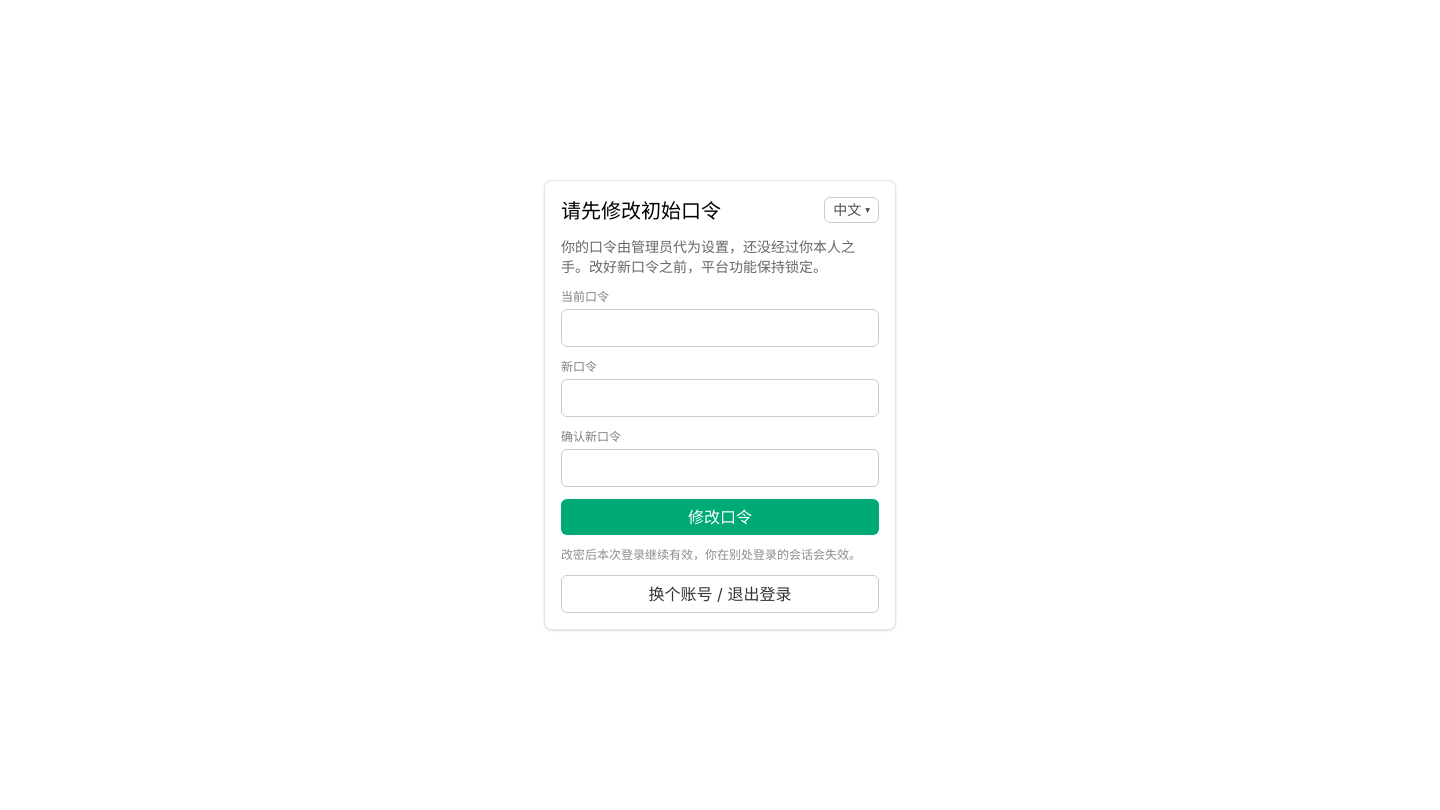
Test: #255 前端② 错误码 → 文案的渲染（每个码一条断言） › invalid_credentials（401 旧口令不对）⇒ 说「重输当前口令」，且**留在改密屏**、没回登录页
Type "whatever" into the password field with id "currentPassword" at (720, 328), box [561,309,879,347]
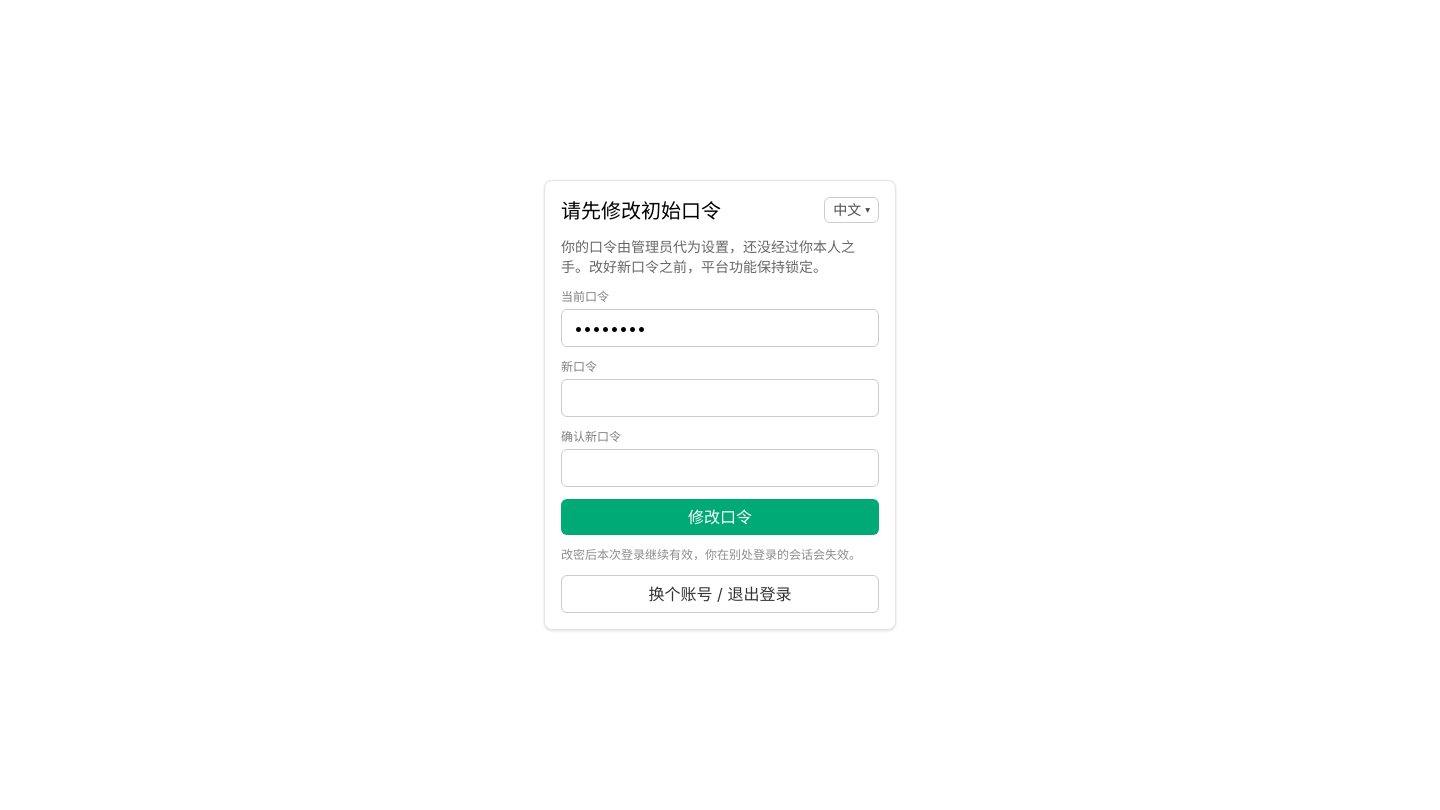
Type "mine-chosen" into the password field with id "newPassword" at (720, 398), box [561,379,879,417]
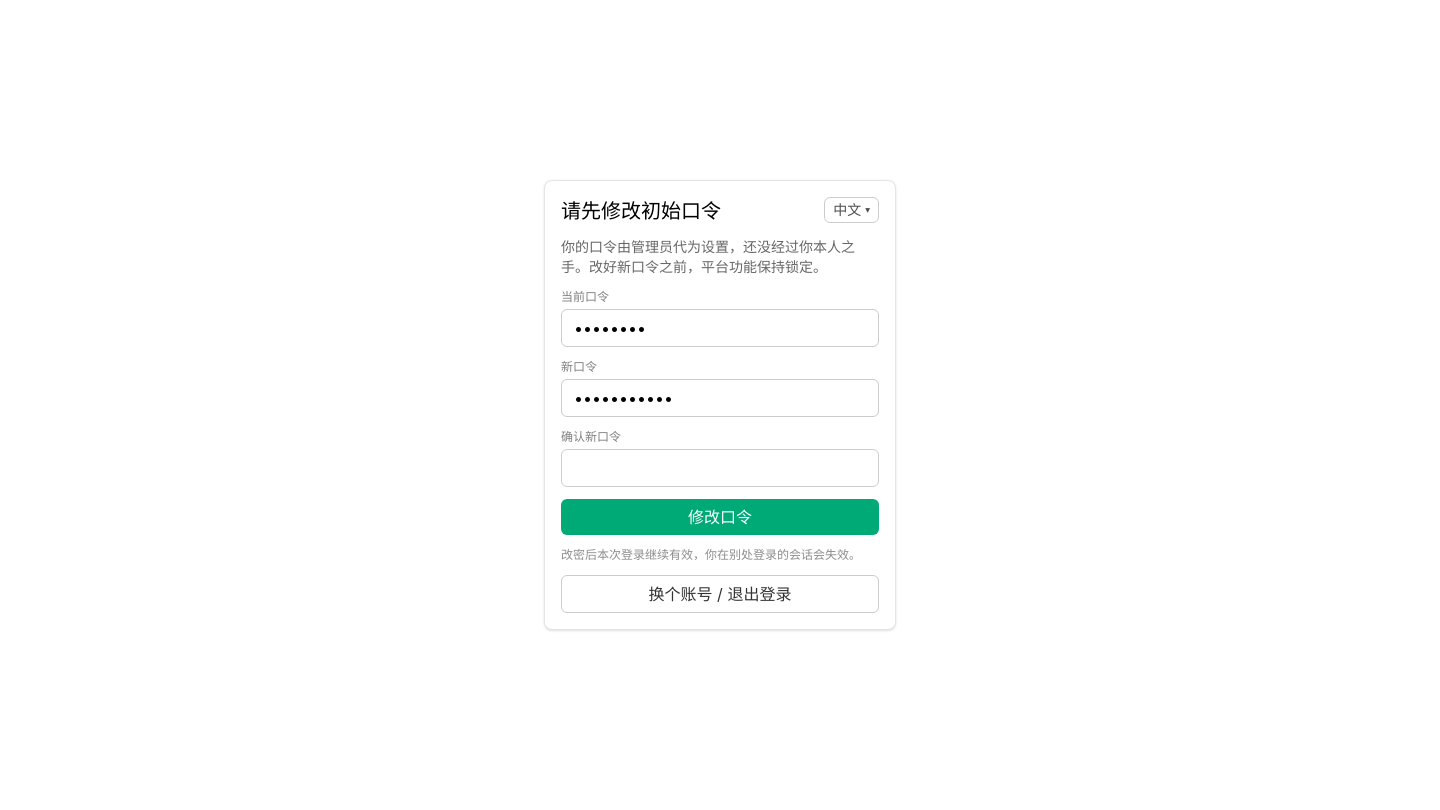
Type "mine-chosen" into the password field with id "confirmPassword" at (720, 468), box [561,449,879,487]
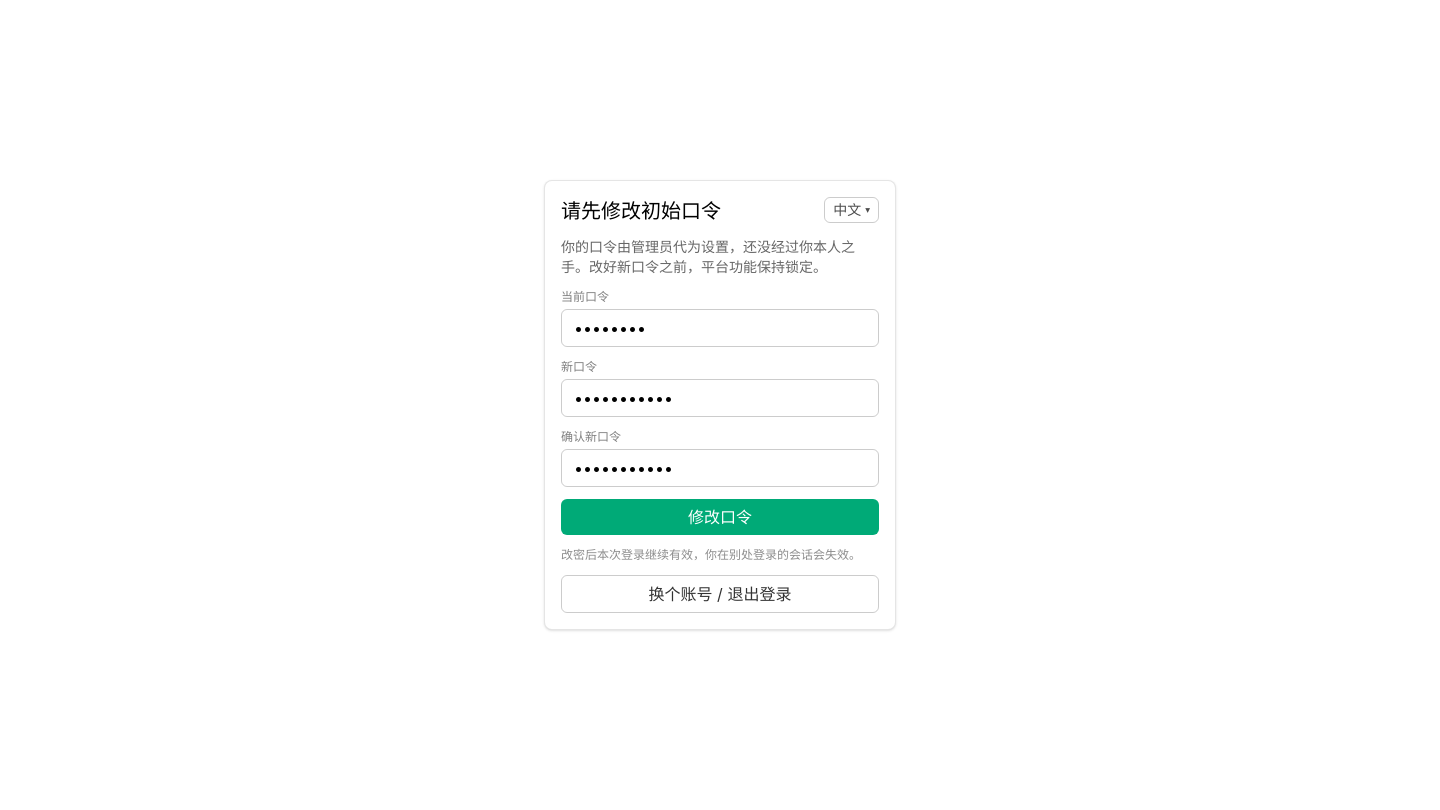
Submit the form, box [561,289,879,535]
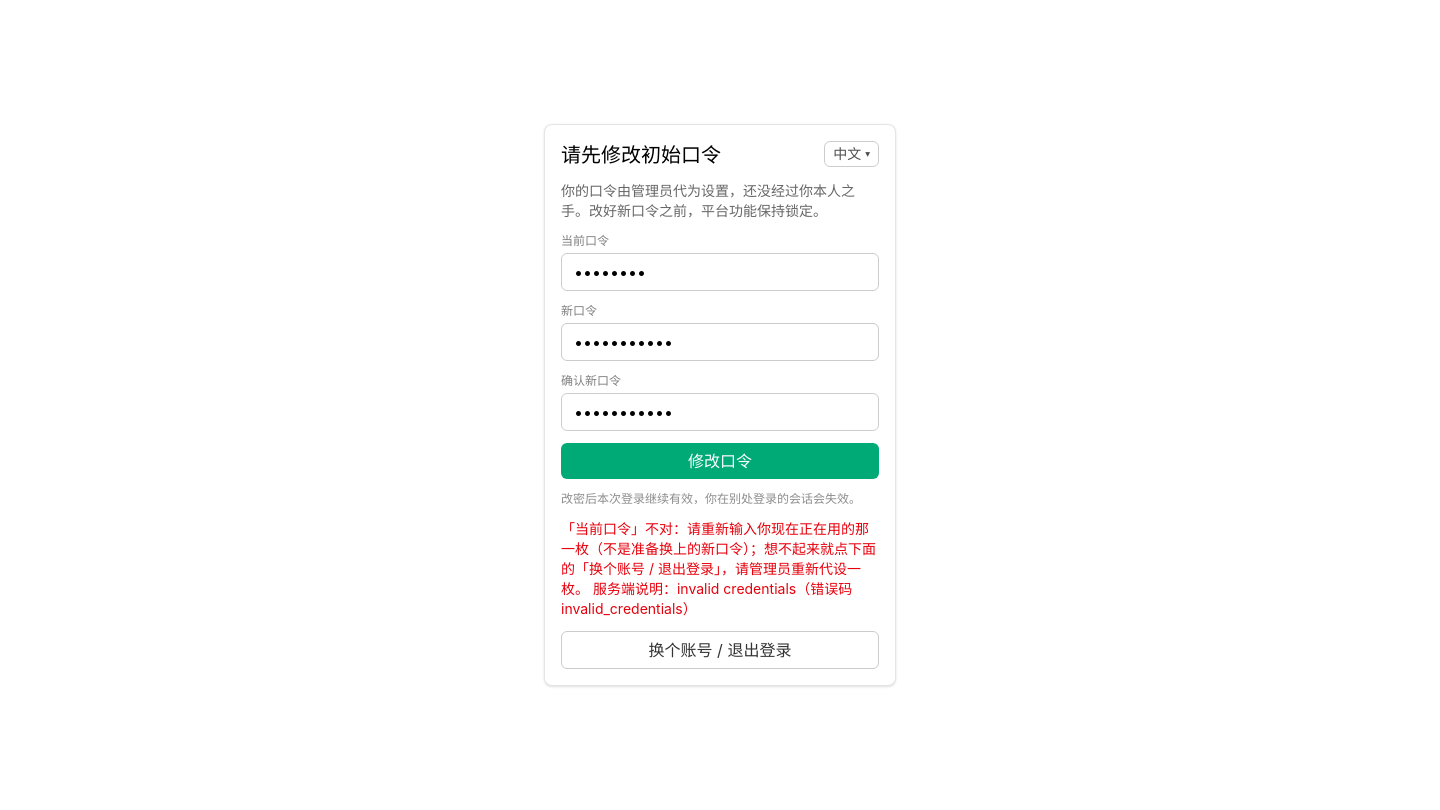
Expected: the message is shown, [561,519,879,619]
Expected: the message shows "当前口令", [561,520,876,617]
Expected: the message shows "invalid_credentials", [561,520,876,617]
